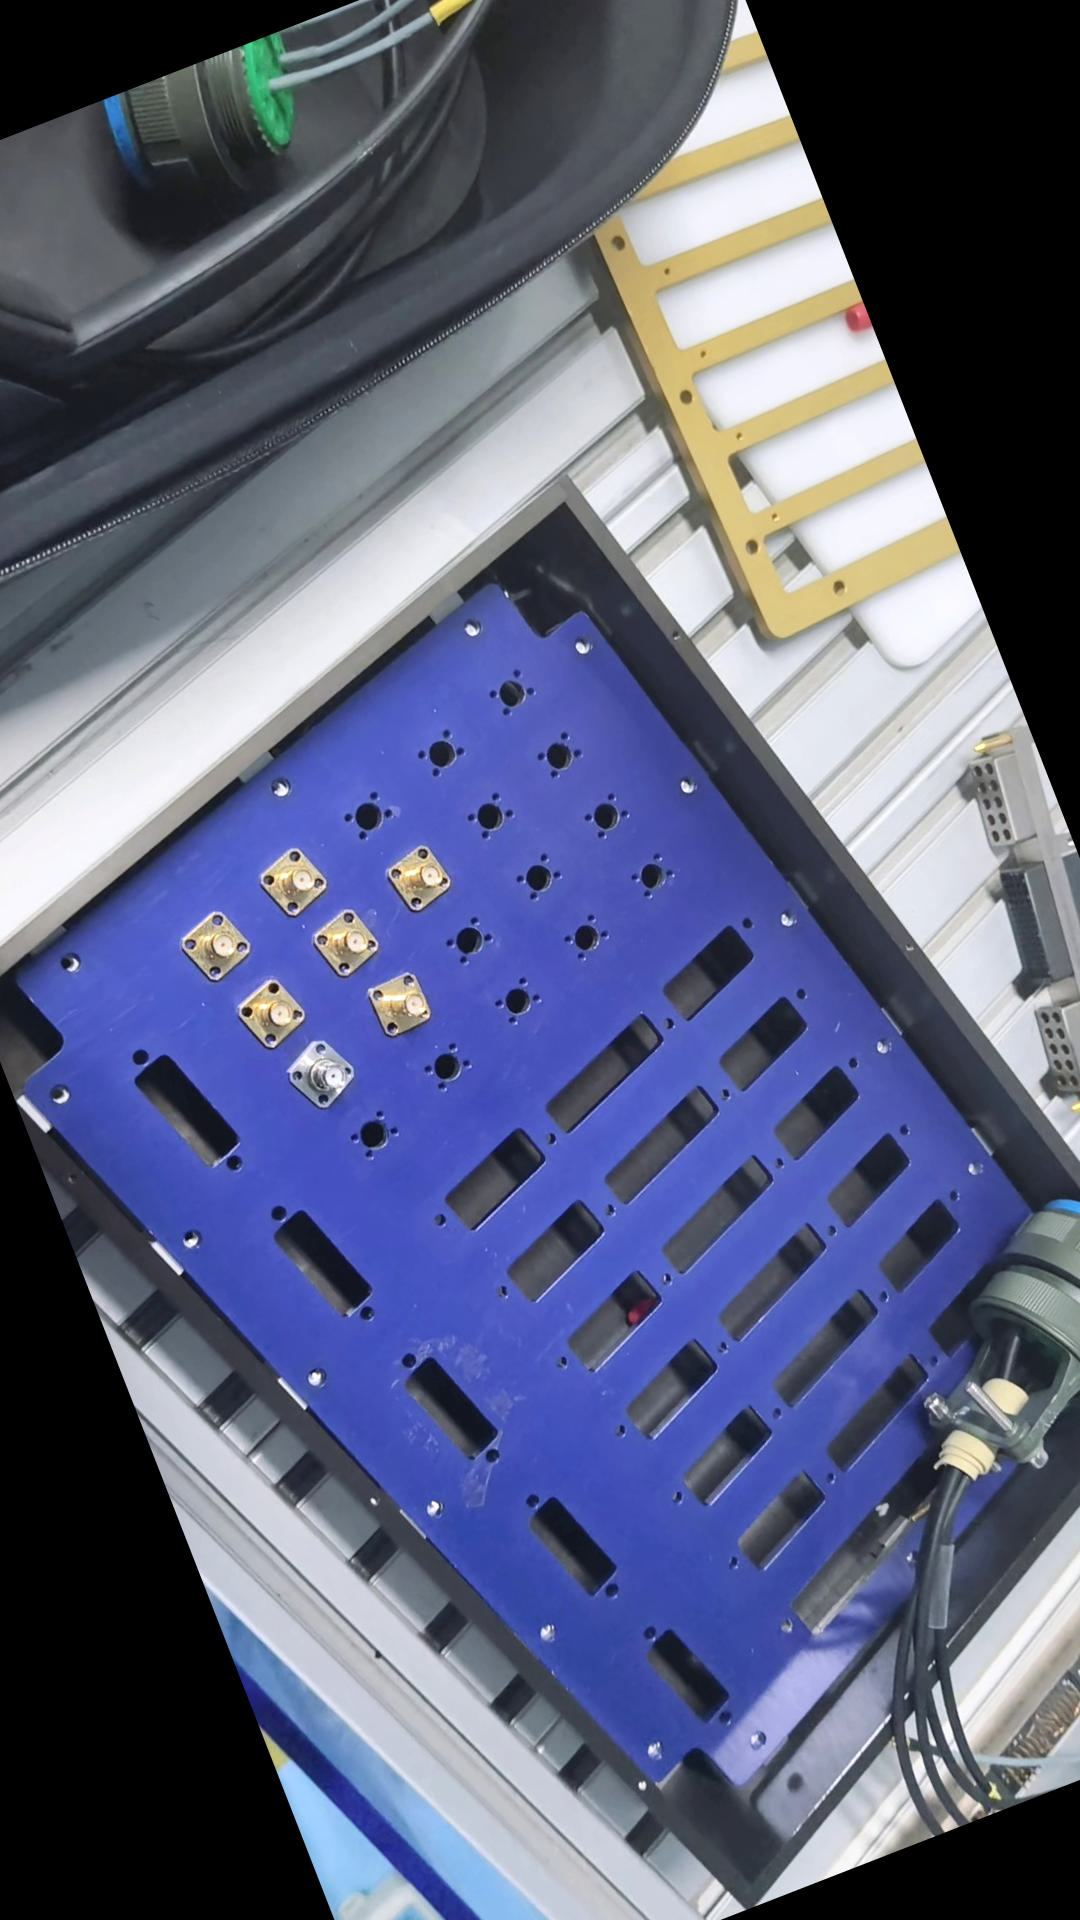SMA: (252, 833, 340, 922), (173, 897, 257, 982), (229, 967, 313, 1051), (305, 903, 392, 981), (363, 967, 446, 1044), (386, 837, 465, 918), (282, 1033, 360, 1108)
